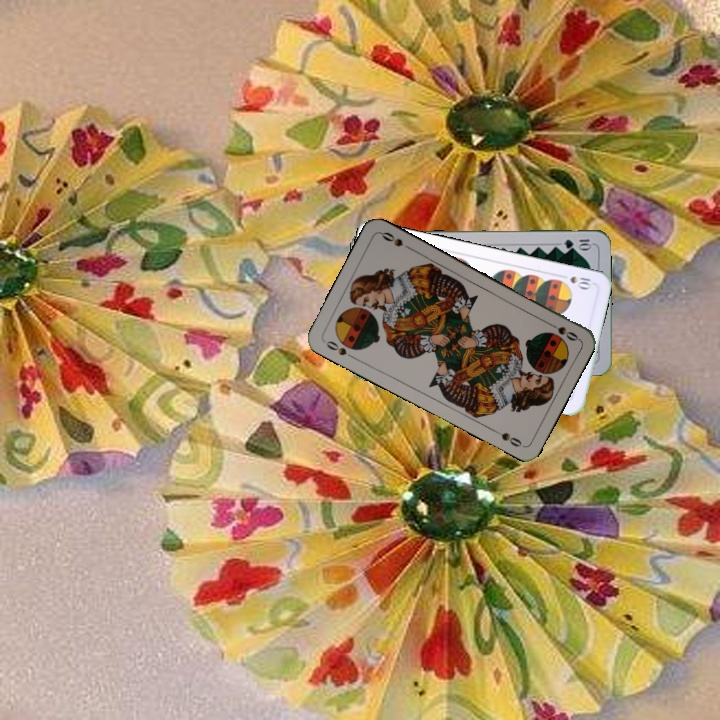G10: (560, 235, 594, 251)
S10: (556, 271, 595, 292)
SO: (543, 318, 581, 344), (320, 337, 358, 362)
